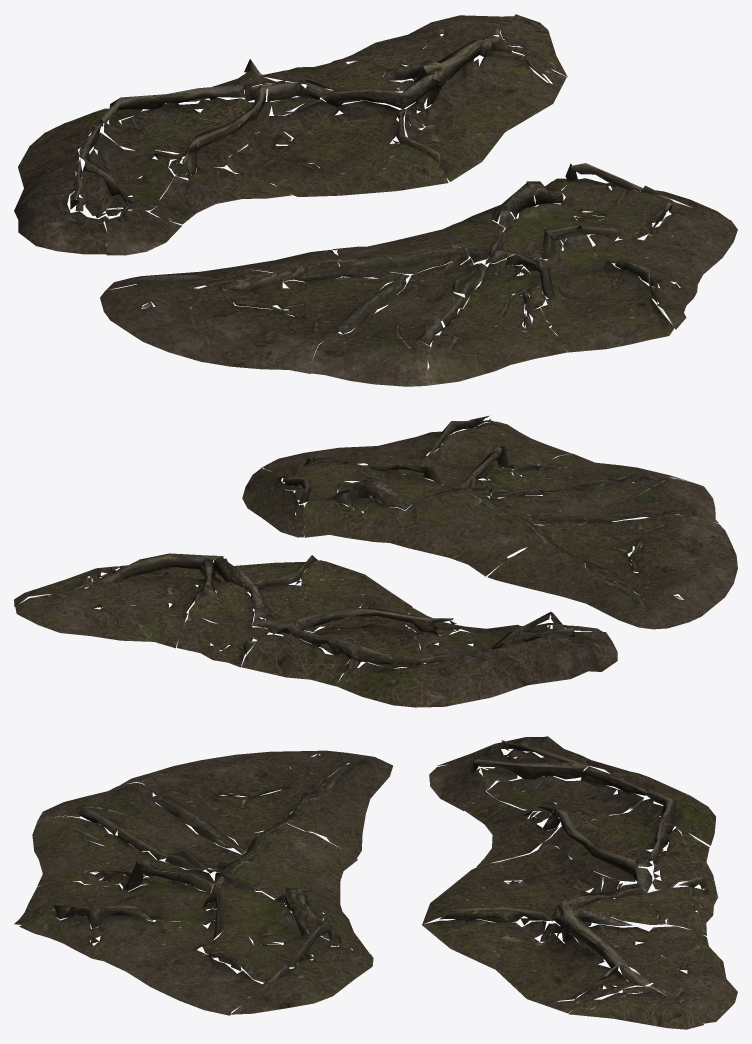
The model's file is roots_lo.glb.
3 views of the same model, one above another, from view 1: azimuth 30°, elevation 25°; view 2: azimuth 150°, elevation 25°; view 3: azimuth 270°, elevation 25° (orthographic). The views are drawn at different scales.
Parts seen in each view (by area): view 1: pine_roots_b, pine_roots_a; view 2: pine_roots_b, pine_roots_a; view 3: pine_roots_b, pine_roots_a.
Boxes of the visible parts, bbox=[...] form: pine_roots_b: bbox=[100, 163, 737, 386]; pine_roots_a: bbox=[14, 14, 567, 255]; pine_roots_b: bbox=[242, 415, 737, 629]; pine_roots_a: bbox=[14, 553, 617, 707]; pine_roots_b: bbox=[14, 750, 392, 1015]; pine_roots_a: bbox=[422, 736, 737, 1029].
Bounding box in the file's own units: 1.77 × 0.1574 × 1.89.
Materials: 2 (2 with a texture image).
